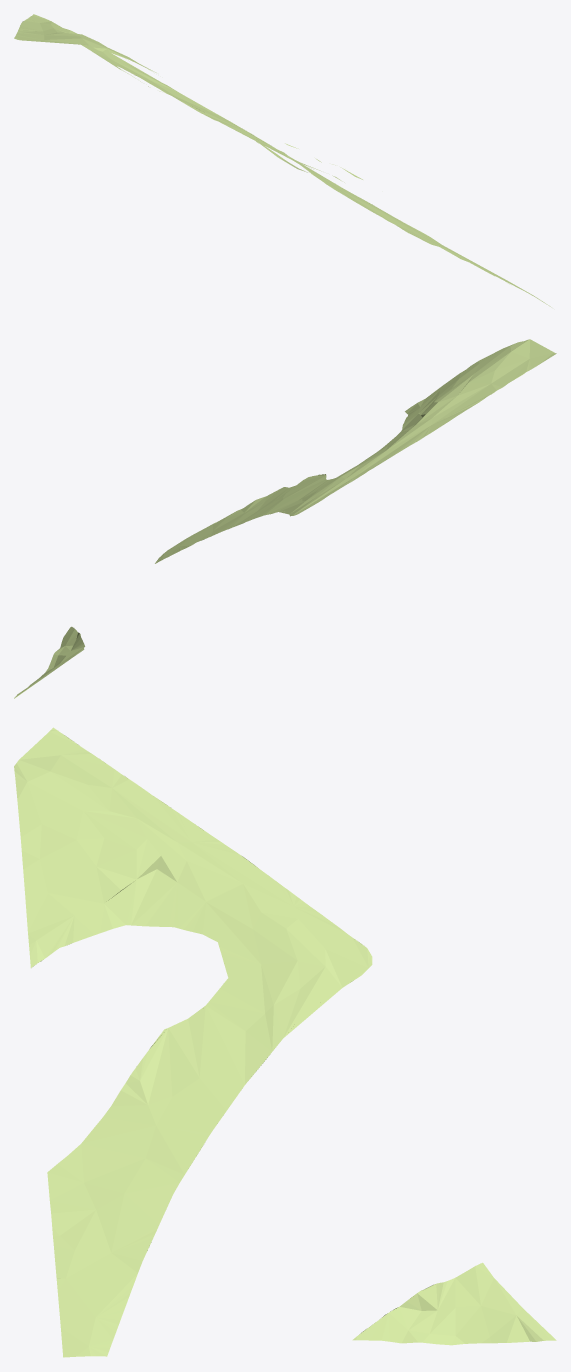
3 renders of one model, top to bottom at view 1: azimuth 30°, elevation 25°; view 2: azimuth 150°, elevation 25°; view 3: azimuth 270°, elevation 25°, orthographic. The views are drawn at different scales.
Size of the model in its own units: 123 by 88.81 by 113.
